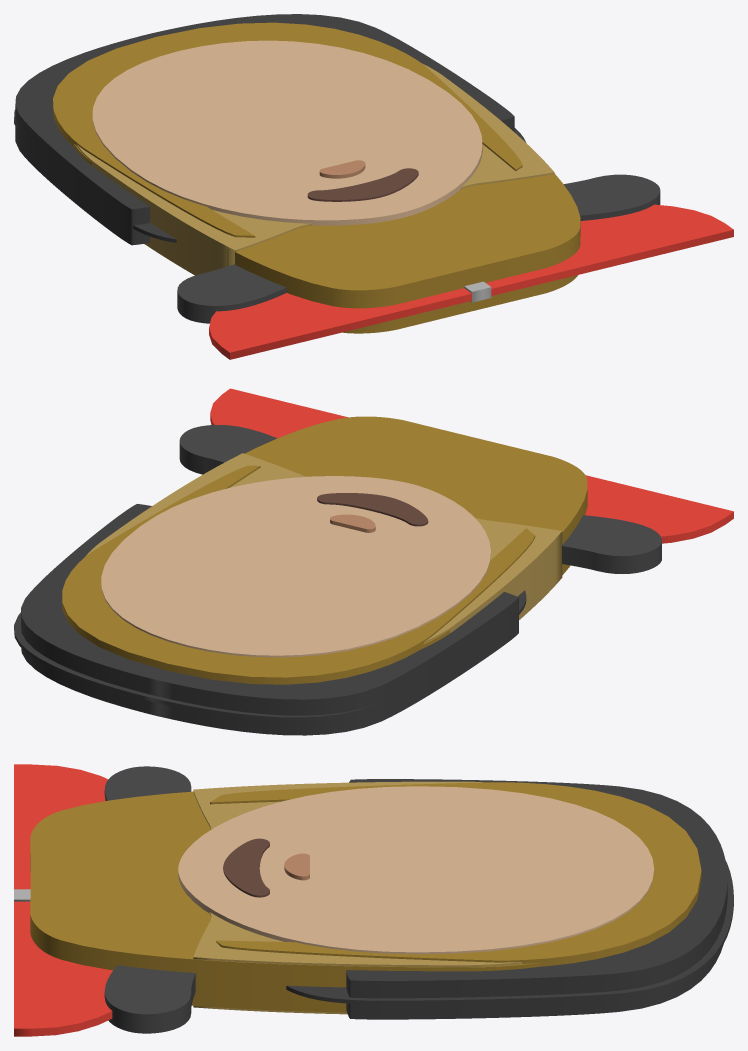
The model's file is emoji_u1f482_1f3fc_200d_2640.glb.
The picture shows the model from 3 angles, top to bottom: view 1: azimuth 30°, elevation 25°; view 2: azimuth 150°, elevation 25°; view 3: azimuth 270°, elevation 25°; orthographic projection. The views are drawn at different scales.
Visible parts, largest first — view 1: emoji_u1f482_1f3fc_200d_2640; view 2: emoji_u1f482_1f3fc_200d_2640; view 3: emoji_u1f482_1f3fc_200d_2640.
Boxes of the visible parts, <box> form: emoji_u1f482_1f3fc_200d_2640: <box>14,14,733,359</box>; emoji_u1f482_1f3fc_200d_2640: <box>14,388,733,735</box>; emoji_u1f482_1f3fc_200d_2640: <box>14,764,733,1036</box>.
Size of the model in its own units: 0.0293 by 0.0034 by 0.0338.
